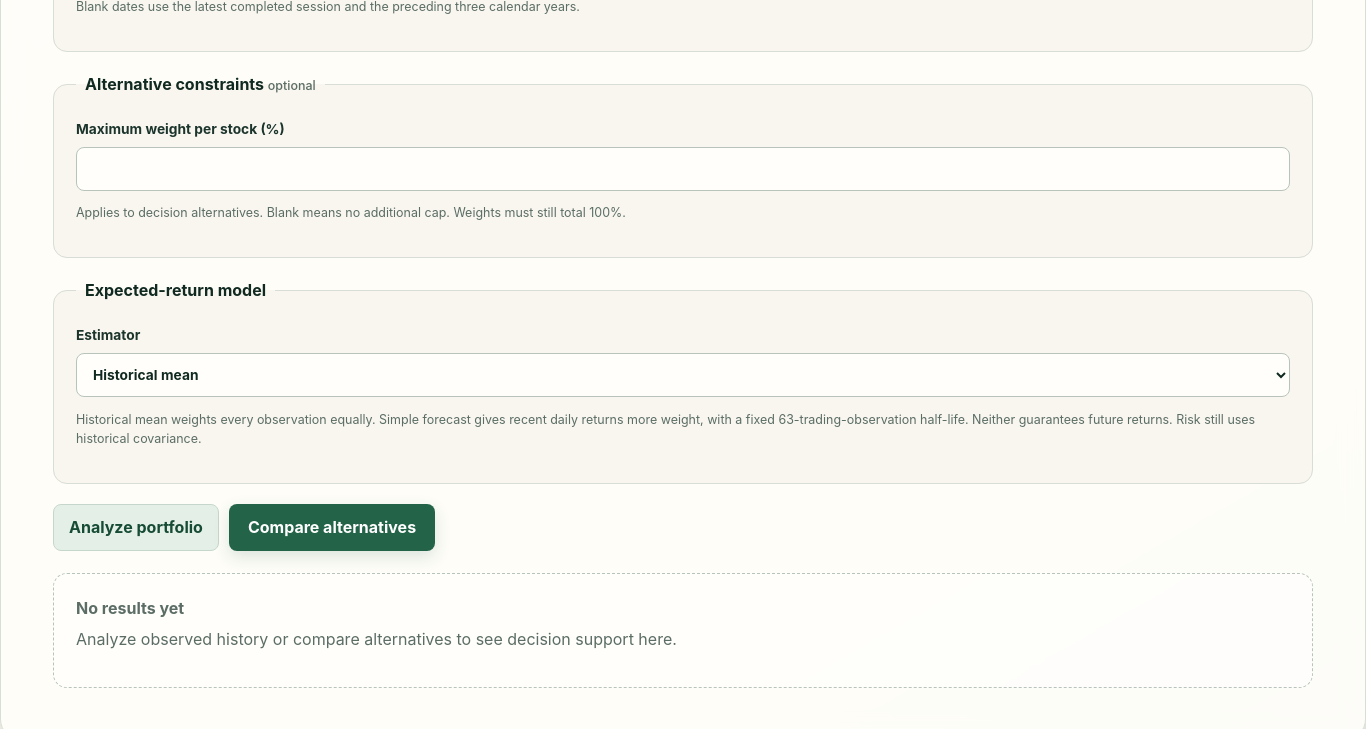
Scenario: PortfolioAnalysisWorkspace › keeps observed history and estimated alternatives in distinct switchable views
The image size is (1366, 729).
(page scrolled)
Click the button "Analyze portfolio".
click(136, 527)  # box [53,504,219,551]
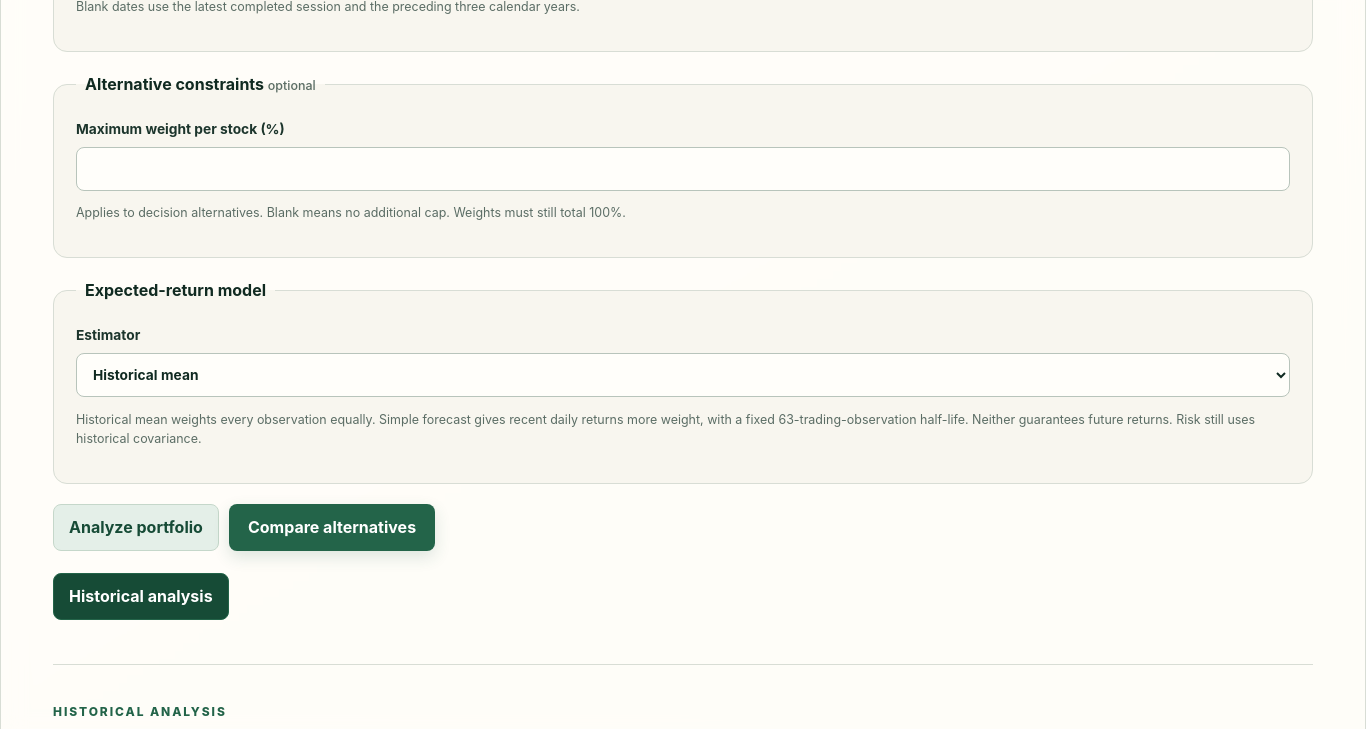
Click the button "Compare alternatives".
click(332, 527)  # box [229,504,435,551]
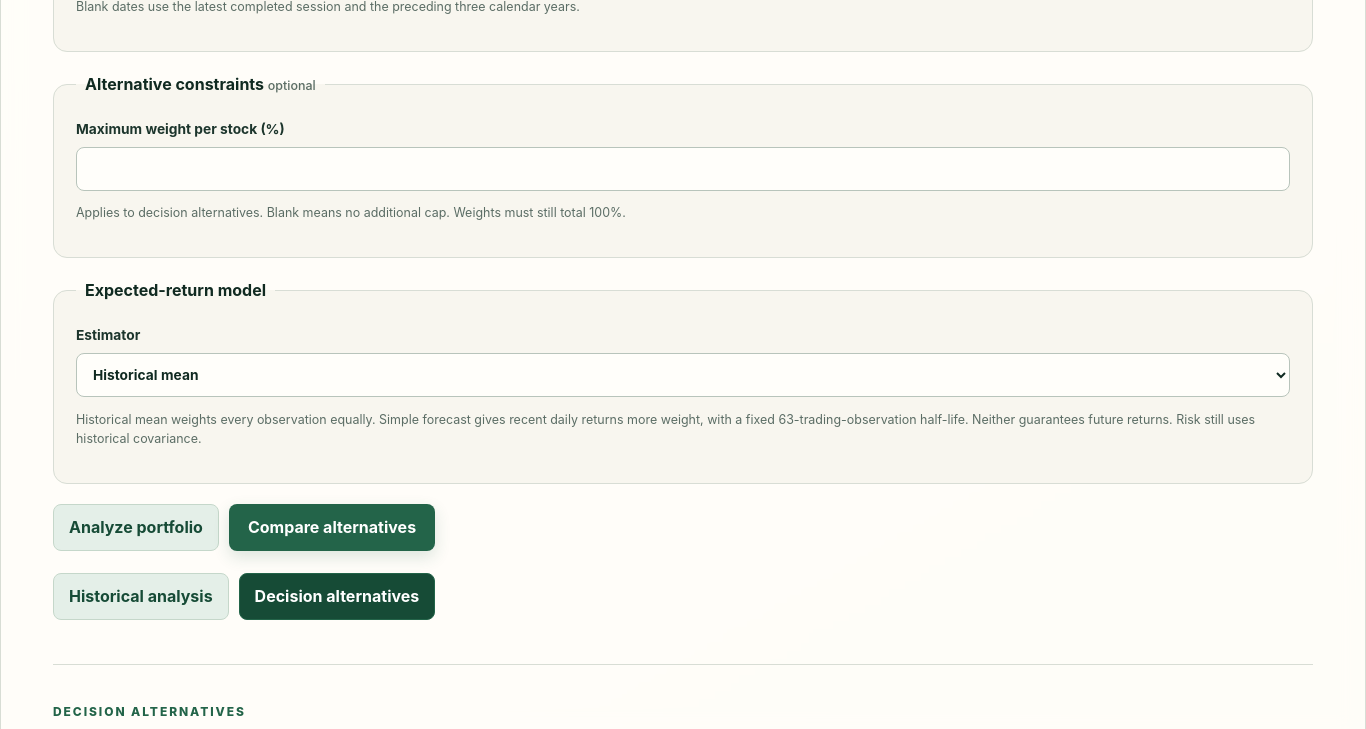
Click the button "Historical analysis".
click(141, 596)  # box [53,573,229,620]
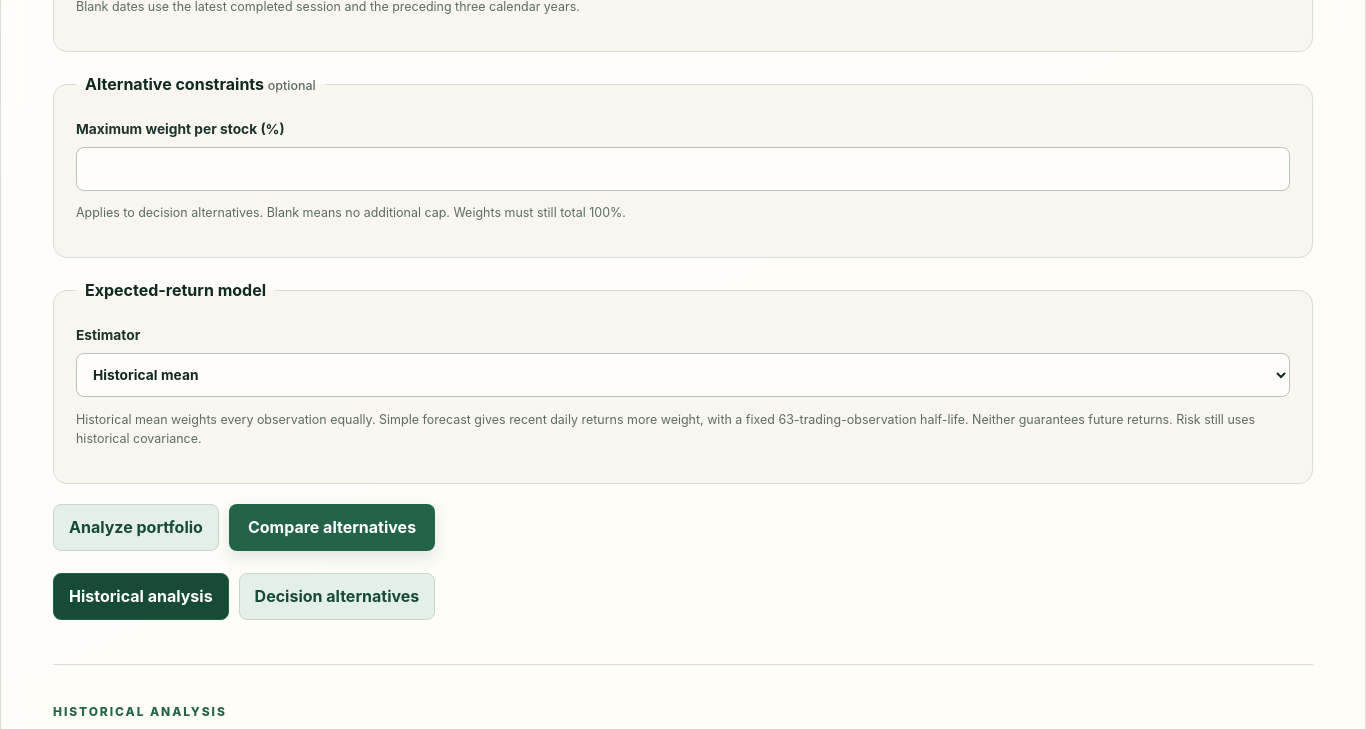
Click the button "Decision alternatives".
click(337, 596)  # box [239,573,435,620]
(page scrolled)
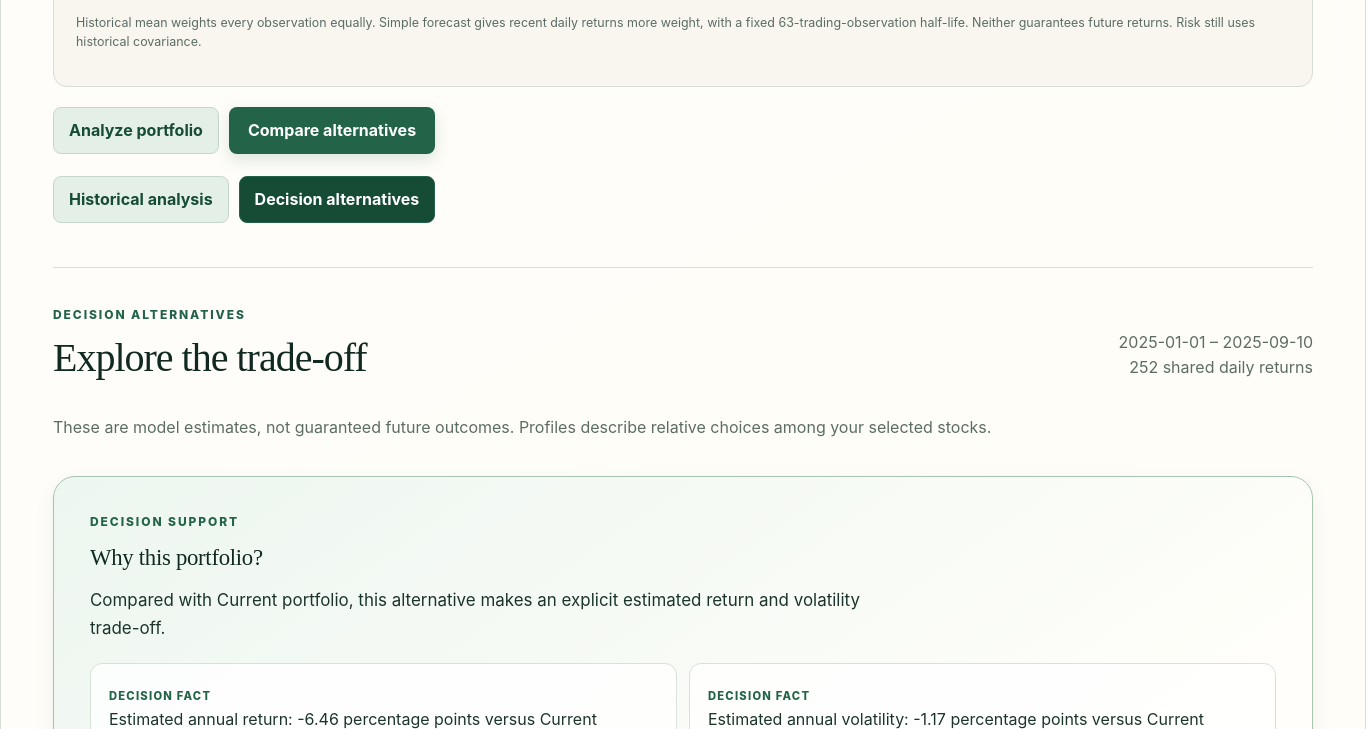
Check: the heading "Explore the trade-off" is shown, box [53,336,367,379]
